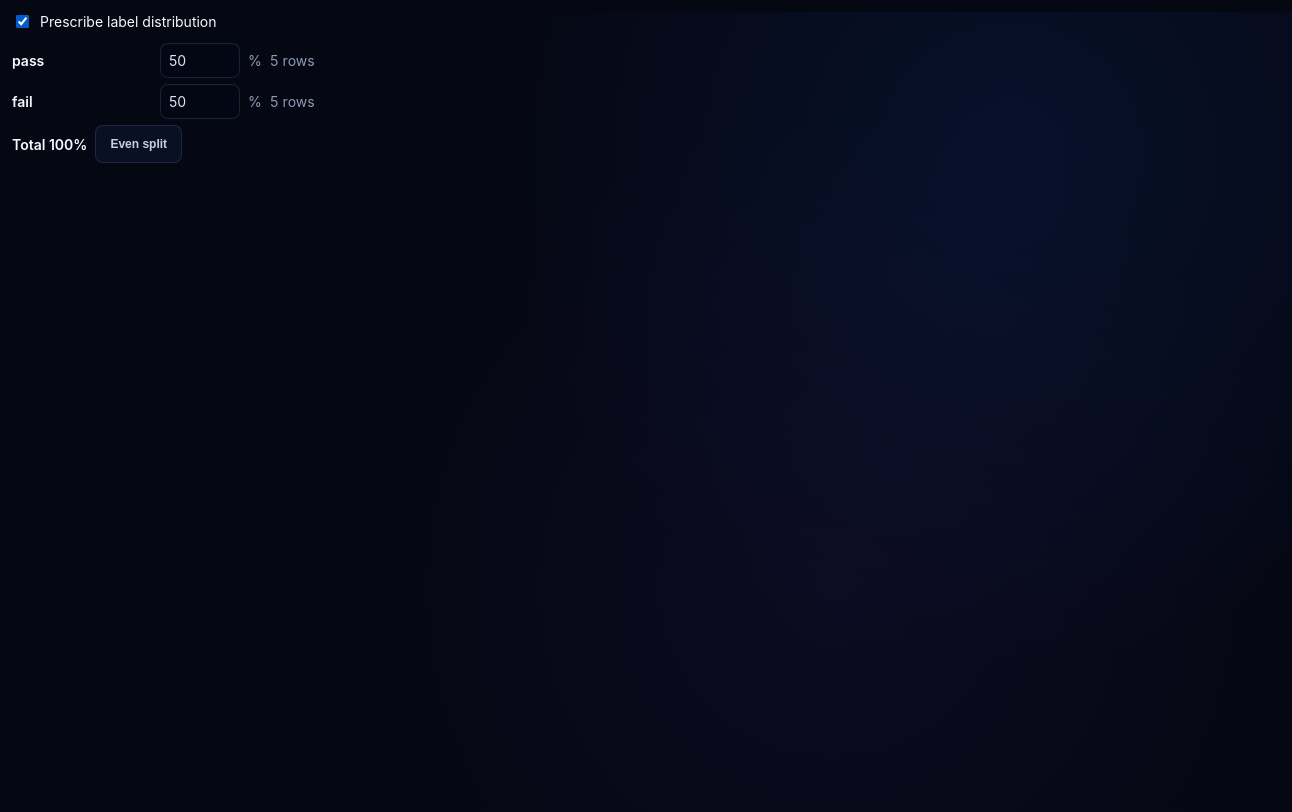
Test case: LabelMixEditor › recomputes row counts when the percents are edited
This screenshot has width=1292, height=812.
Replace the text in the number field named "Percent for pass" with "20". click: (200, 60)
box: [160,43,240,78]
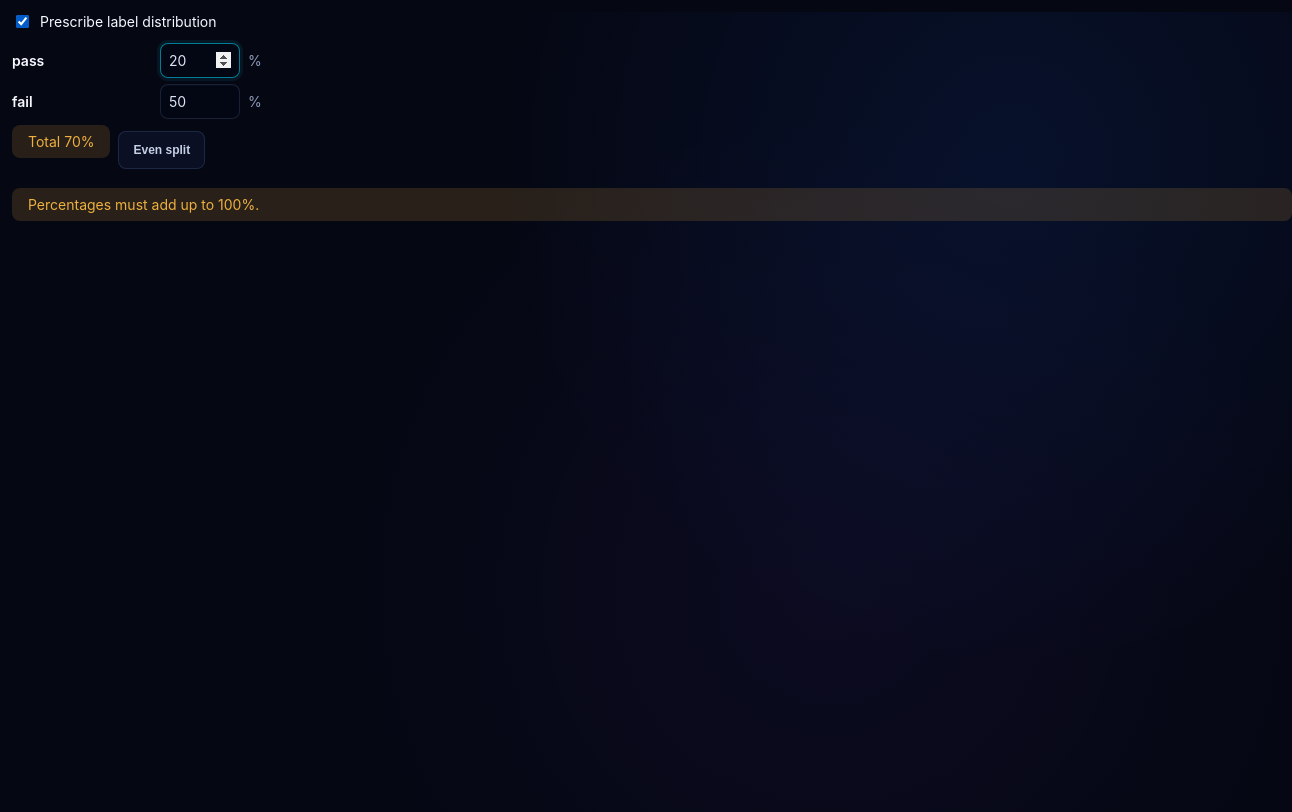
Replace the text in the number field named "Percent for fail" with "80". click: (200, 102)
box: [160,84,240,119]
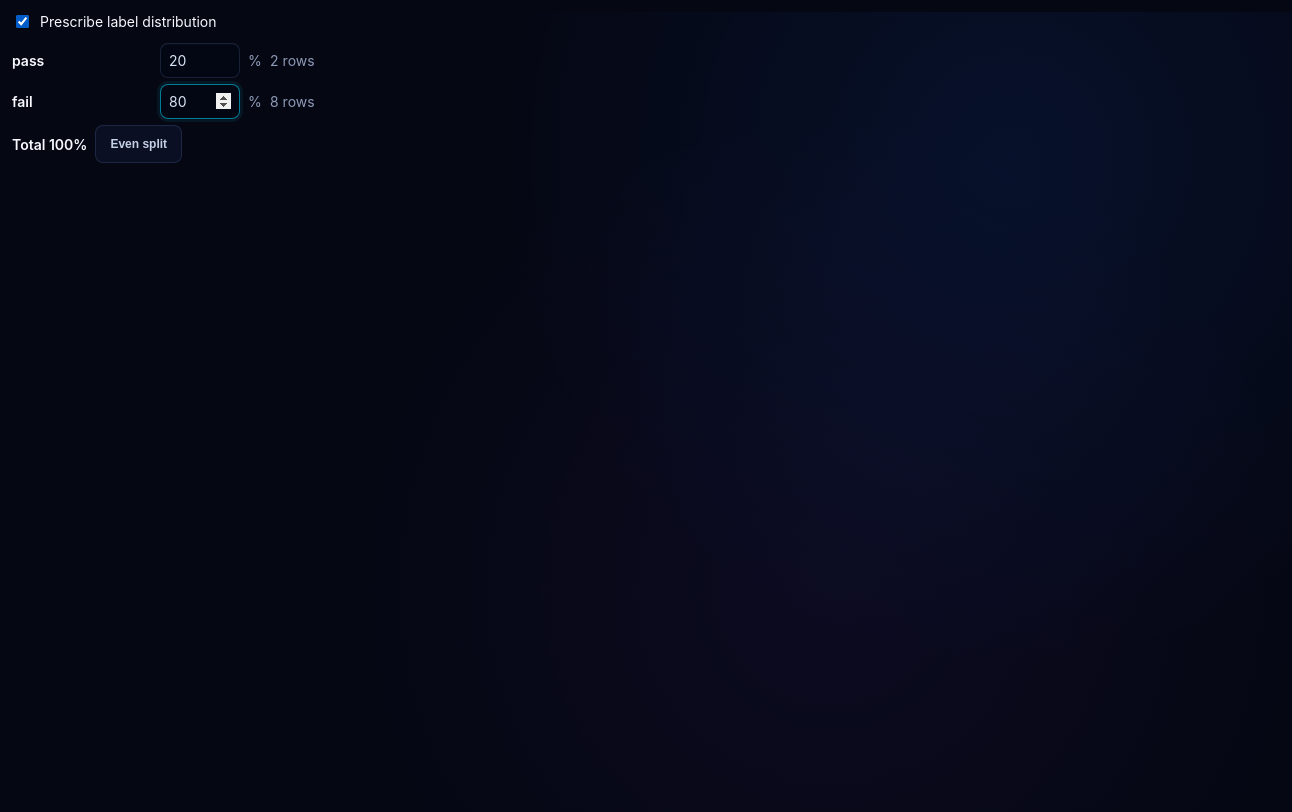
Expected: the text "2 rows" is shown, [270,52,315,69]
Expected: the text "8 rows" is shown, [270,93,315,110]
